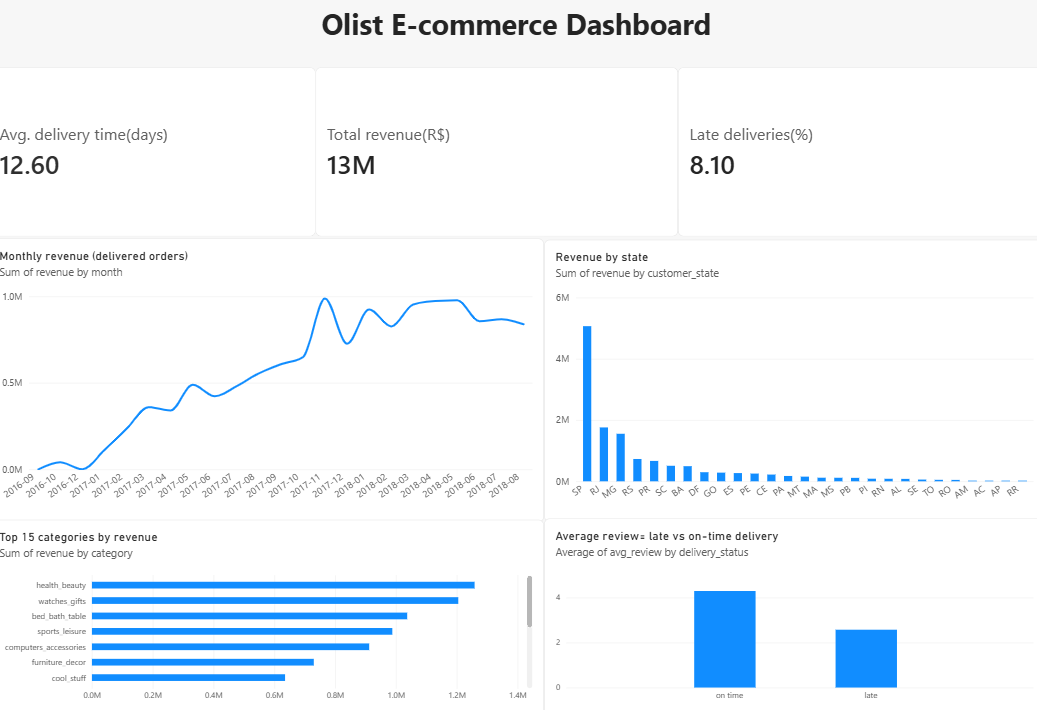

Layout of this report page (visuals, bound fields, positions):
{"tool":"powerbi","page":{"name":"Page 1","canvas":[1920,1080],"ordinal":0},"visuals":[{"type":"lineChart","title":"Monthly revenue (delivered orders)","fields":{"Category":["monthly_revenue 1.month"],"Y":["Sum(monthly_revenue 1.revenue)"]},"box":[0,368,828,422],"z":0},{"type":"clusteredBarChart","title":"Top 15 categories by revenue","fields":{"Category":["top_categories 1.category"],"Y":["Sum(top_categories 1.revenue)"]},"box":[0,788,828,292],"z":1},{"type":"clusteredColumnChart","title":"Revenue by state","fields":{"Category":["revenue_by_state 1.customer_state"],"Y":["Sum(revenue_by_state 1.revenue)"]},"box":[828,370,746,420],"z":2},{"type":"clusteredColumnChart","title":"Average review= late vs on-time delivery","fields":{"Category":["deliveries_reviews 1.delivery_status"],"Y":["Avg(deliveries_reviews 1.avg_review)"]},"box":[828,786,746,294],"z":3},{"type":"cardVisual","fields":{"Data":["Sum(KPIS 1.total_revenue)"]},"box":[488,114,540,252],"z":4},{"type":"cardVisual","fields":{"Data":["Sum(KPIS 1.avg_delivery_days)"]},"box":[0,114,488,252],"z":5},{"type":"cardVisual","fields":{"Data":["Sum(KPIS 1.late_percent)"]},"box":[1028,114,546,252],"z":6},{"type":"textbox","box":[0,0,1574,114],"z":7}]}

Visuals, with their boxes on the page's 1920x1080 design canvas (x1, y1, x2, y2). These are canvas units, not pixel positions in the 1037x710 screenshot, which may show the page scaled, cropped or inside an application window:
"Monthly revenue (delivered orders)" lineChart: crop(0, 368, 828, 790)
"Top 15 categories by revenue" clusteredBarChart: crop(0, 788, 828, 1080)
"Revenue by state" clusteredColumnChart: crop(828, 370, 1574, 790)
"Average review= late vs on-time delivery" clusteredColumnChart: crop(828, 786, 1574, 1080)
cardVisual - Sum(KPIS 1.total_revenue): crop(488, 114, 1028, 366)
cardVisual - Sum(KPIS 1.avg_delivery_days): crop(0, 114, 488, 366)
cardVisual - Sum(KPIS 1.late_percent): crop(1028, 114, 1574, 366)
textbox: crop(0, 0, 1574, 114)
